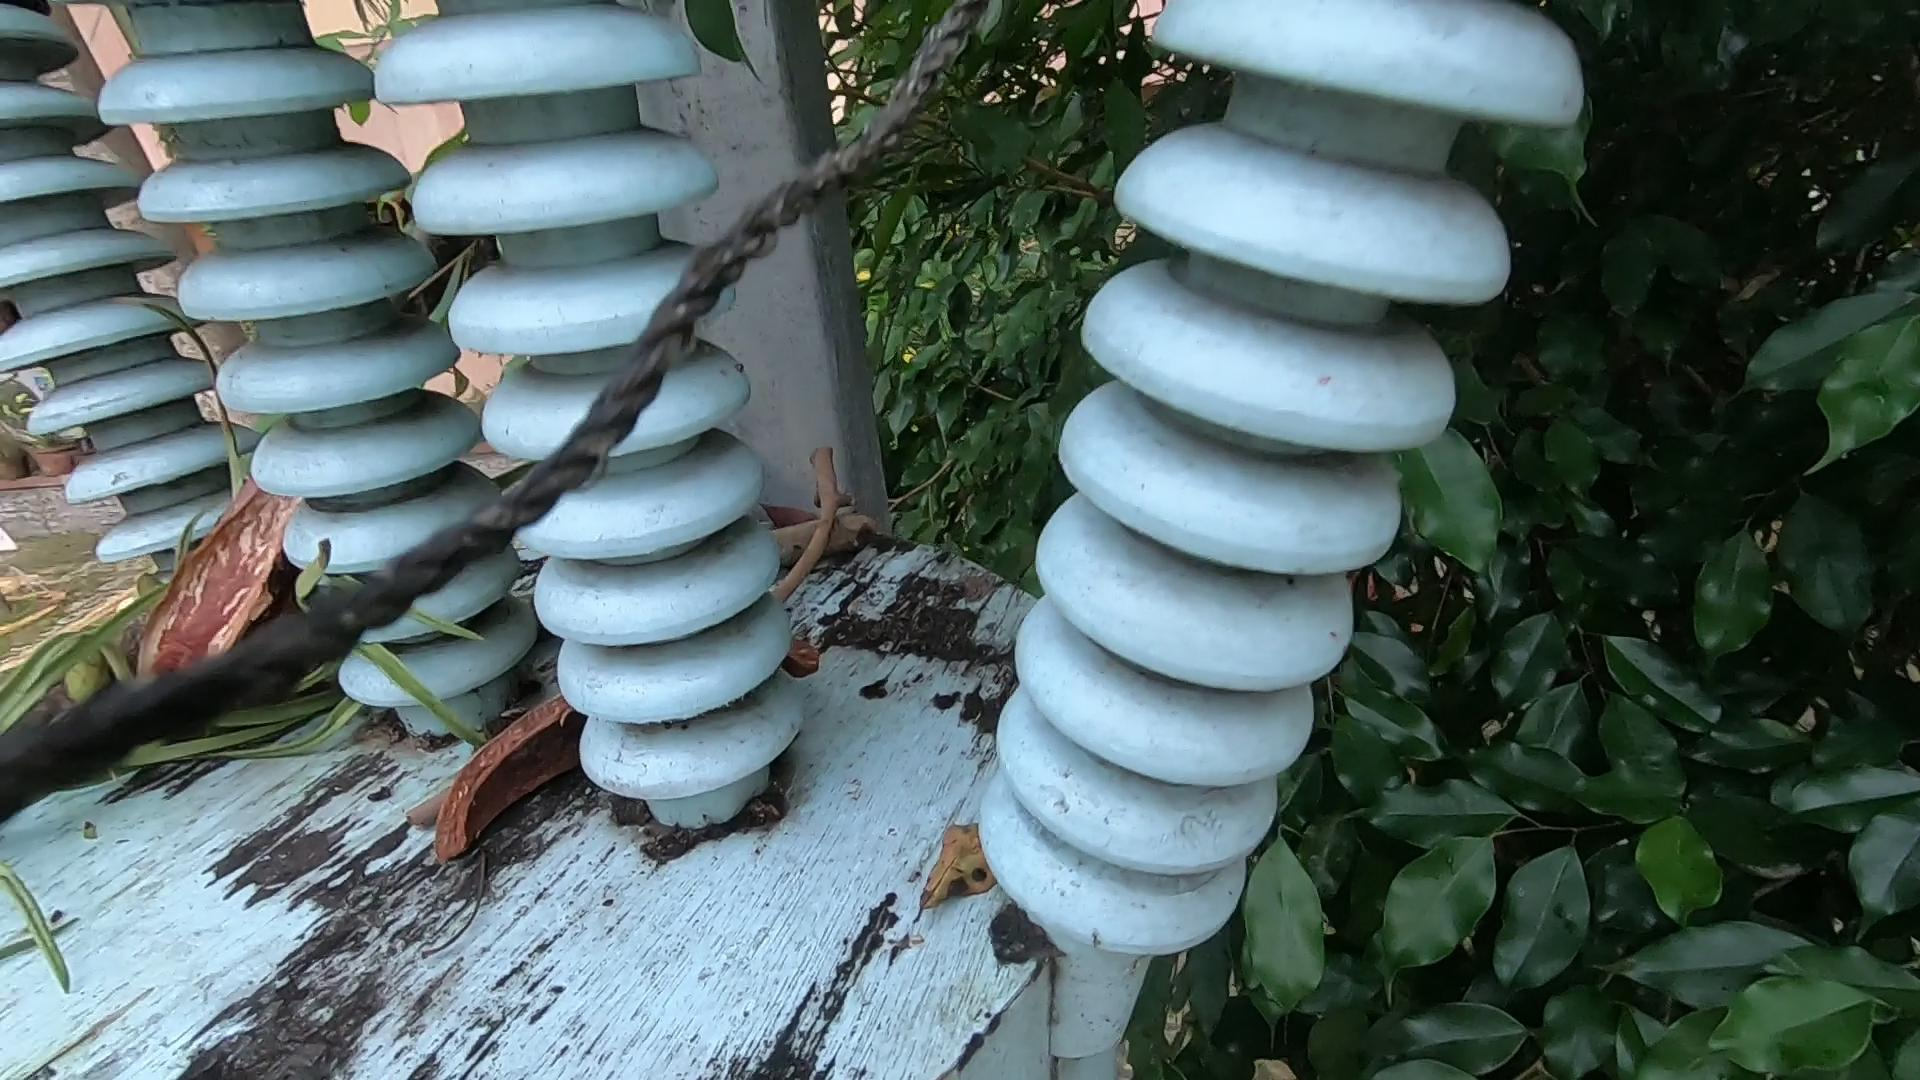branch with leaves: (775, 501, 884, 571)
leaf: (910, 775, 1006, 923)
mahogany fruit: (128, 433, 342, 926), (393, 674, 629, 984)
tree branch: (1, 389, 749, 771), (396, 769, 458, 858)
